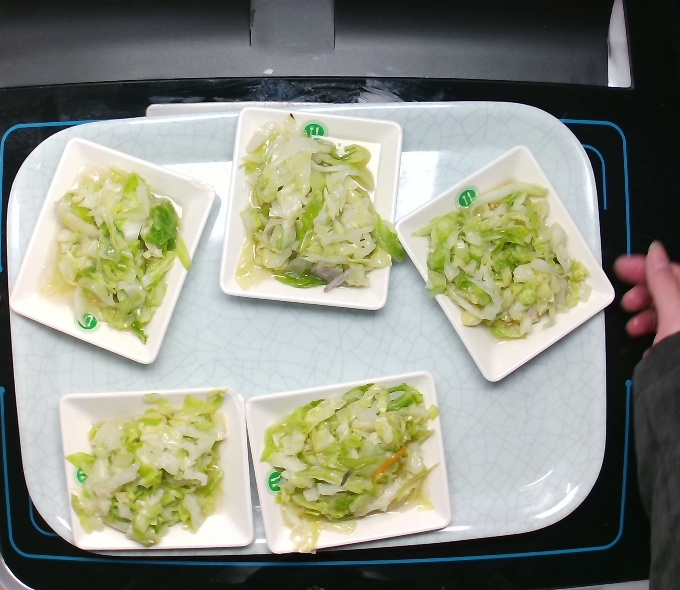wcq-JuanXinCai: (414, 179, 597, 348), (253, 381, 436, 550), (56, 388, 239, 551), (236, 120, 400, 301), (41, 167, 191, 348)
